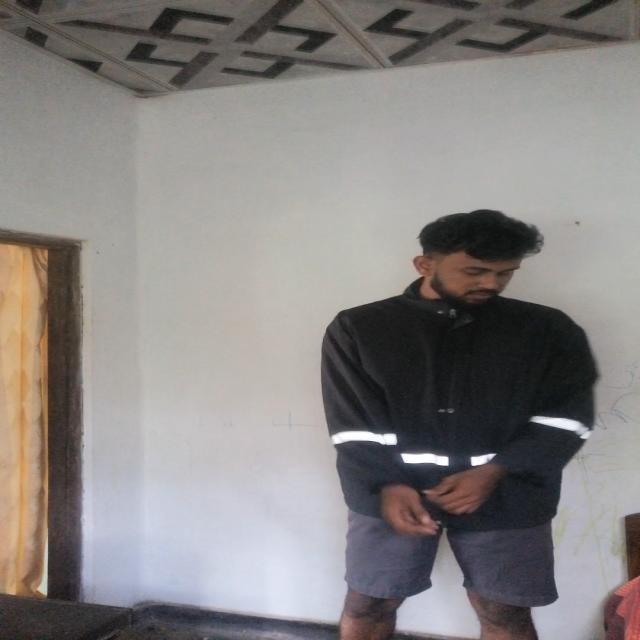Jacket_Wearer: (320, 284, 599, 529)
